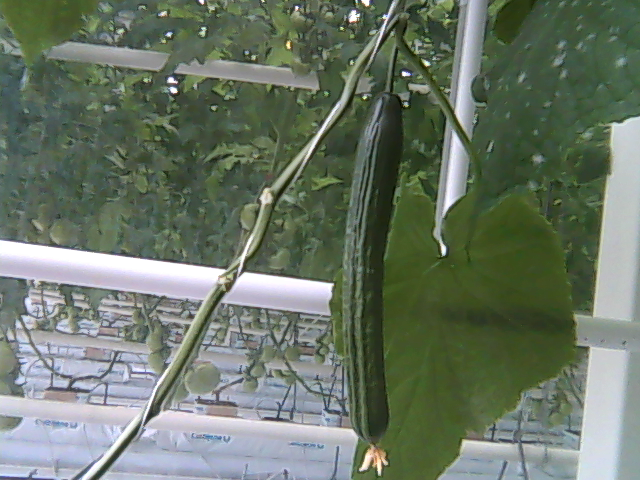concombre: (334, 79, 408, 476)
